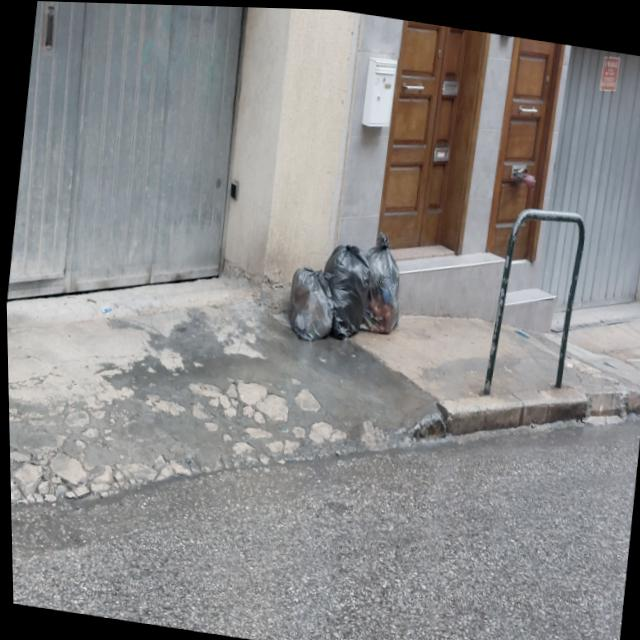Mixed Waste -Black Bag-: (352, 224, 413, 338), (315, 238, 372, 347), (280, 259, 339, 350)
